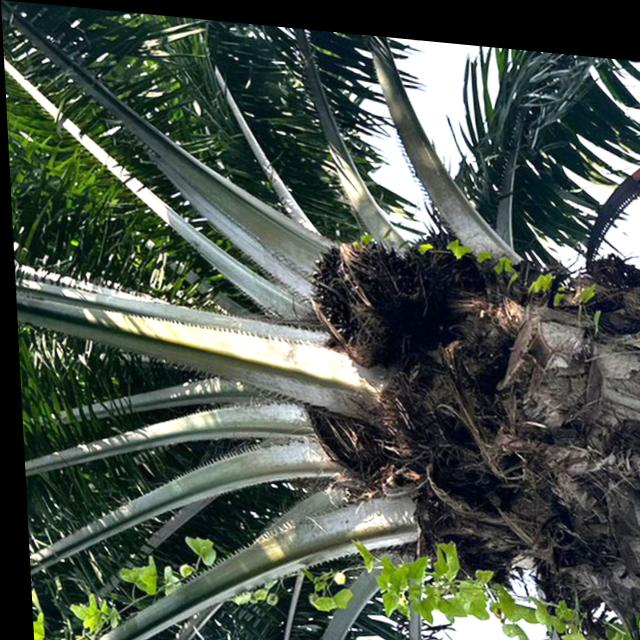unripe: (292, 216, 440, 374)
